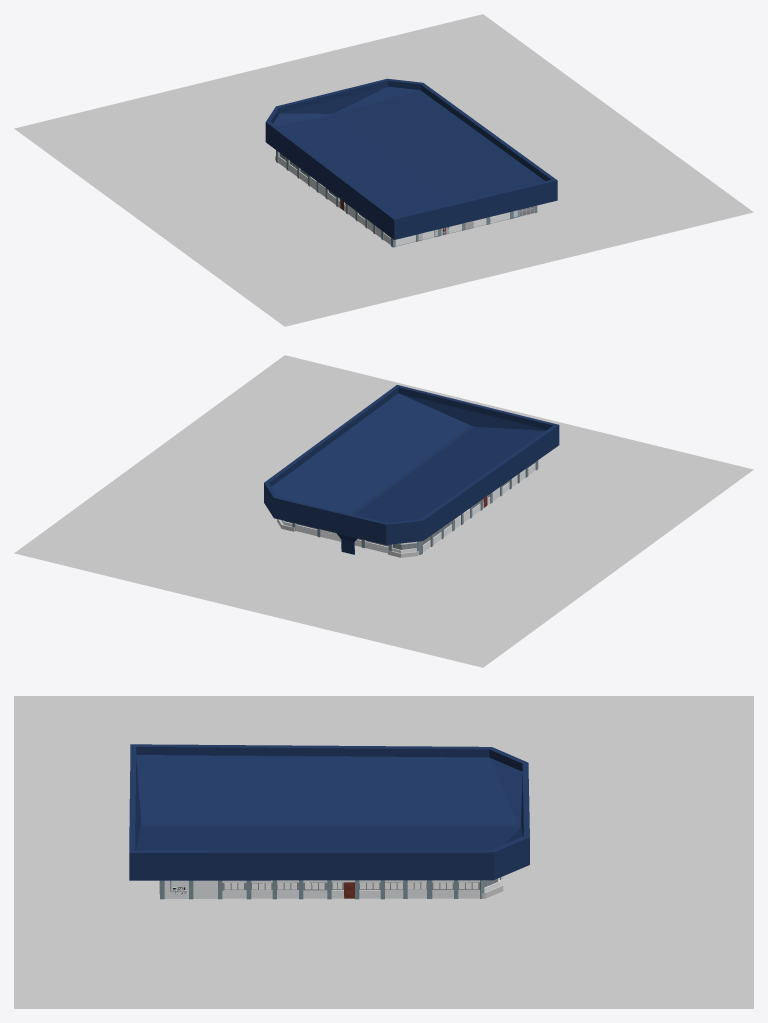
Rendered from FPFmdel.glb.
The picture shows the model from 3 angles, top to bottom: view 1: azimuth 30°, elevation 25°; view 2: azimuth 150°, elevation 25°; view 3: azimuth 270°, elevation 25°; orthographic projection. The views are drawn at different scales.
Parts seen in each view (by area): view 1: Plane.002, openspace.003, frente_lateral_exportar, openspace.002; view 2: Plane.002, openspace.003, frente_lateral_exportar, frente_para_exportar; view 3: Plane.002, openspace.003, lateral.
Part boxes in pixels (left/top/right/bottom): Plane.002: left=14, top=14, right=753, bottom=326; openspace.003: left=265, top=78, right=557, bottom=239; frente_lateral_exportar: left=276, top=150, right=392, bottom=246; openspace.002: left=395, top=210, right=519, bottom=246; Plane.002: left=14, top=355, right=753, bottom=667; openspace.003: left=264, top=385, right=559, bottom=554; frente_lateral_exportar: left=421, top=460, right=537, bottom=554; frente_para_exportar: left=281, top=520, right=420, bottom=554; Plane.002: left=14, top=696, right=753, bottom=1008; openspace.003: left=129, top=744, right=529, bottom=880; lateral: left=160, top=880, right=480, bottom=899.
Bounding box in the file's own units: 9.14 × 0.7237 × 9.14.
Materials: 50 (1 with a texture image).
